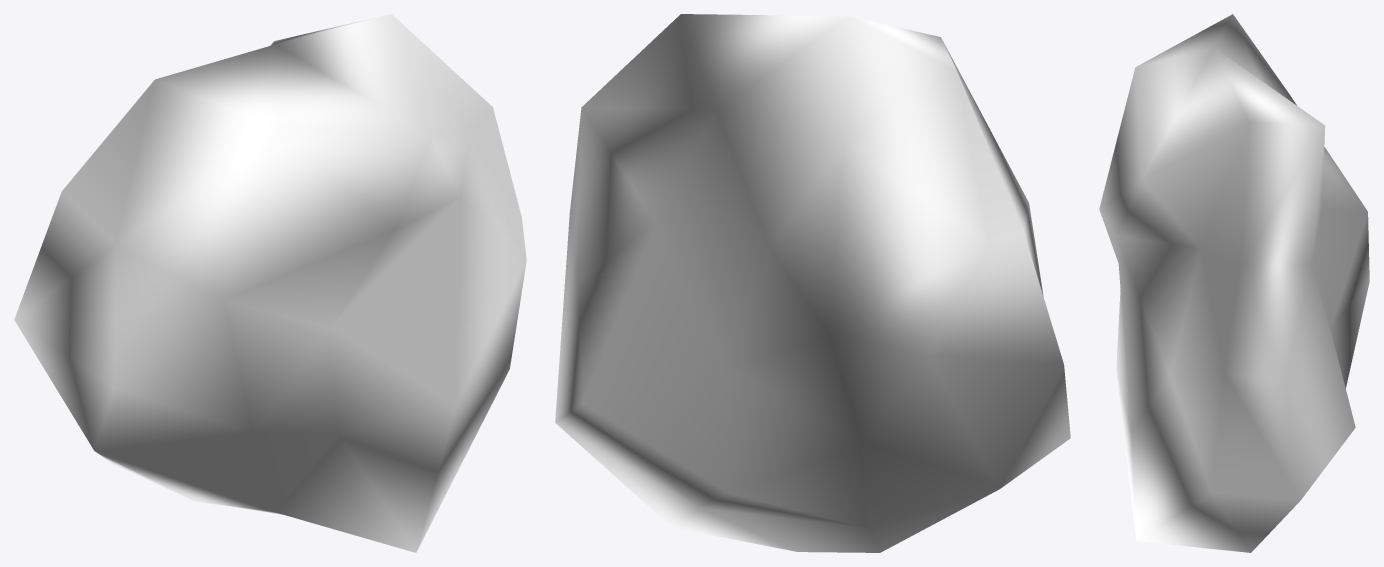
The model's file is SM_Rock_Single.glb.
3 renders of one model, left to right at view 1: azimuth 30°, elevation 25°; view 2: azimuth 150°, elevation 25°; view 3: azimuth 270°, elevation 25°, orthographic. The views are drawn at different scales.
Visible parts, largest first — view 1: asset_rock_single; view 2: asset_rock_single; view 3: asset_rock_single.
Boxes of the visible parts, box(x1,y1,x2,y2) form: asset_rock_single: box(14, 14, 526, 552); asset_rock_single: box(555, 14, 1070, 552); asset_rock_single: box(1099, 14, 1369, 552).
Size of the model in its own units: 0.7225 by 0.7174 by 0.3905.
1 material, 1 textured.
